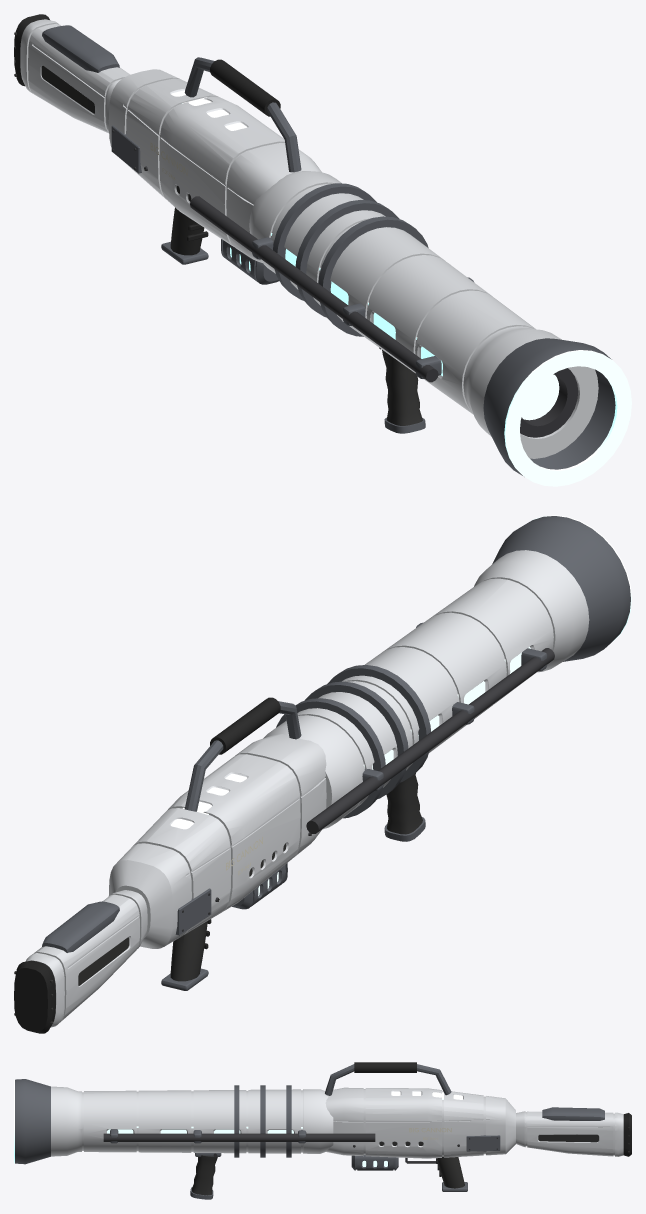
Rendered from bigcannon.glb.
3 renders of one model, top to bottom at view 1: azimuth 30°, elevation 25°; view 2: azimuth 150°, elevation 25°; view 3: azimuth 270°, elevation 25°, orthographic. The views are drawn at different scales.
Visible parts, largest first — view 1: Body; view 2: Body; view 3: Body.
Boxes of the visible parts, <box> form: Body: <box>14,14,631,486</box>; Body: <box>14,515,631,1033</box>; Body: <box>14,1062,631,1199</box>.
Size of the model in its own units: 0.164 by 0.2827 by 1.18.
